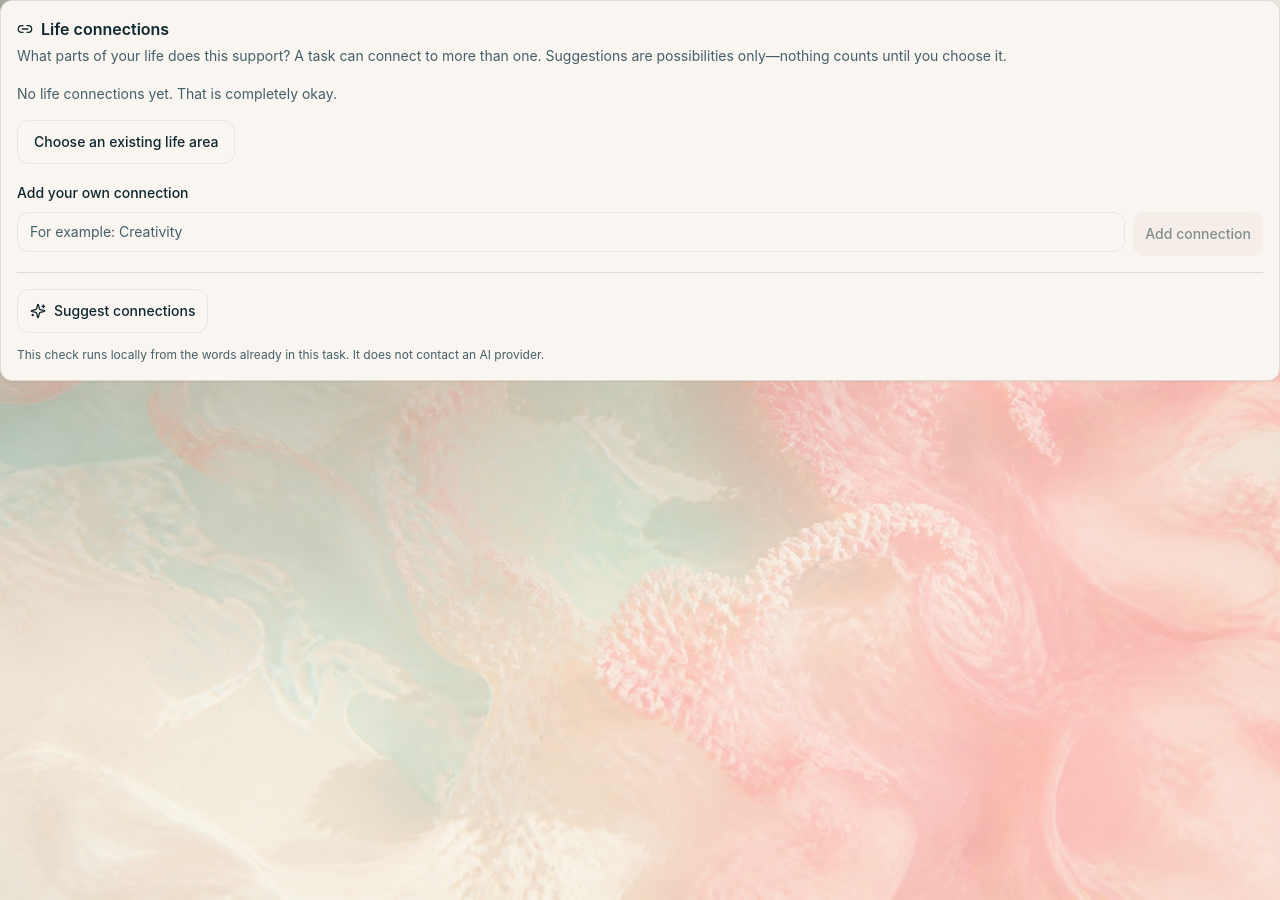
Test case: LifeConnectionsEditor › dismisses a proposal without mutating the canonical links
The image size is (1280, 900).
Click the button "Suggest connections" at (113, 311), box [17,289,208,333]
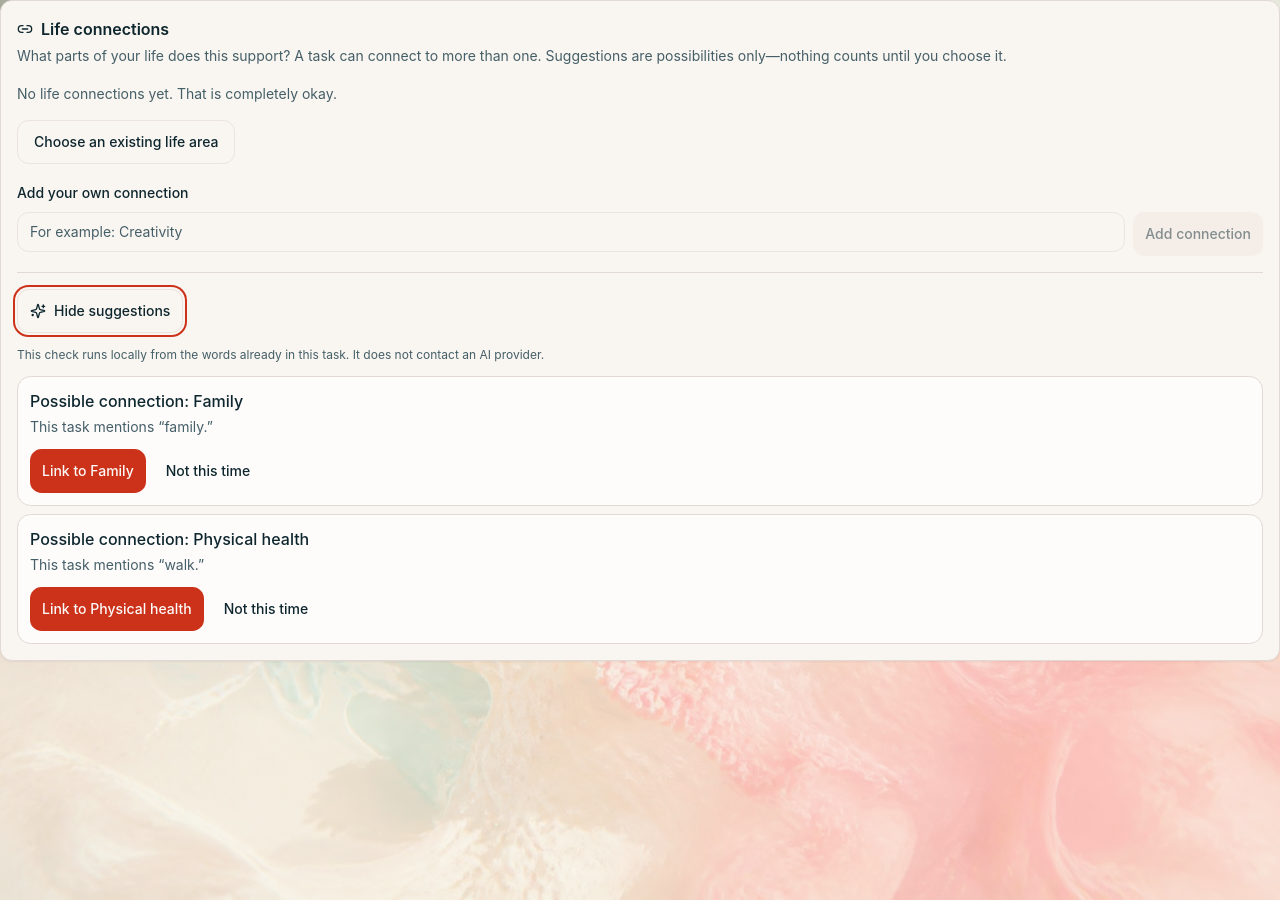
Click the button "Not this time" below "This task mentions “walk.”" at (266, 609), box [212,587,320,631]
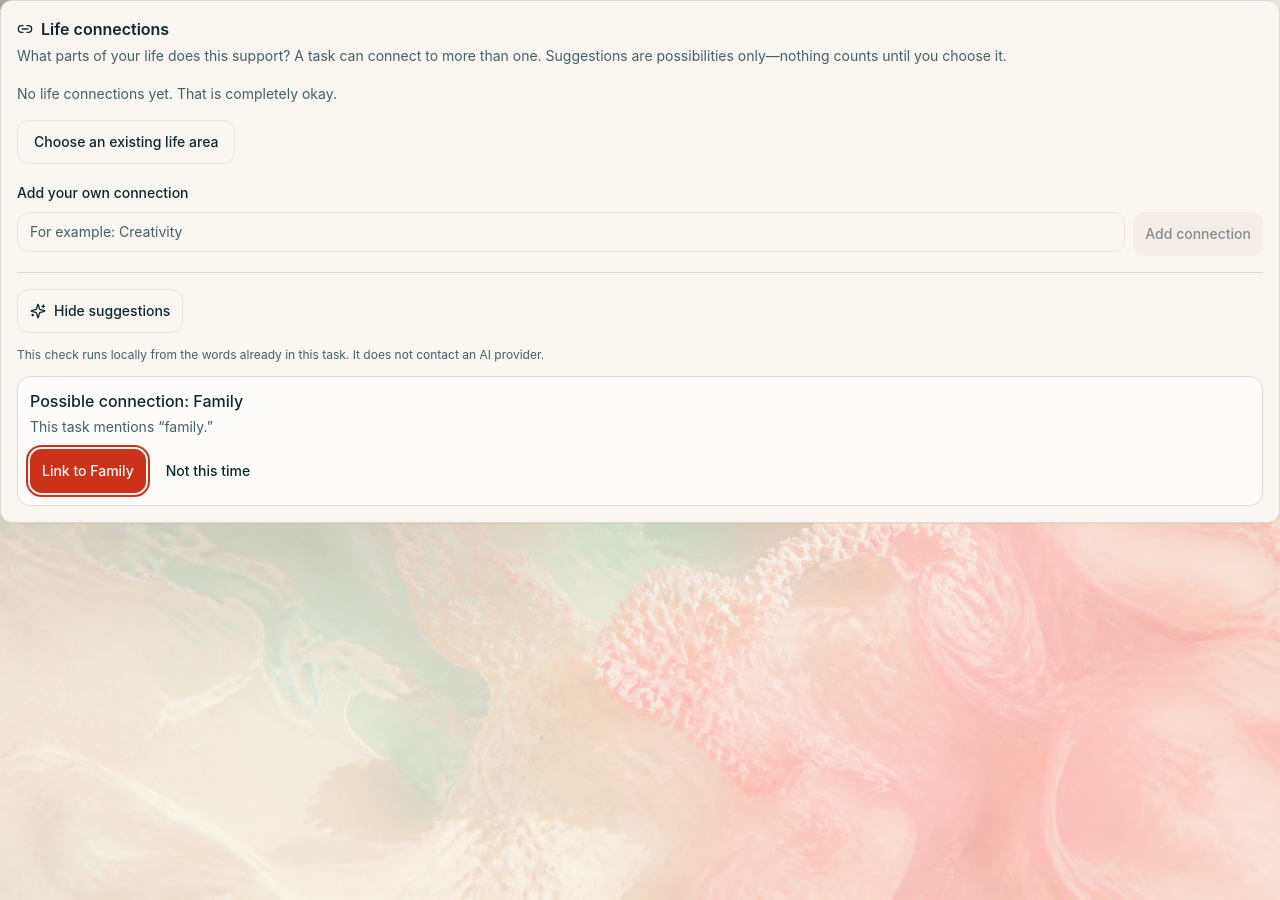
expect the text "Possible connection: Physical health" is gone: met
